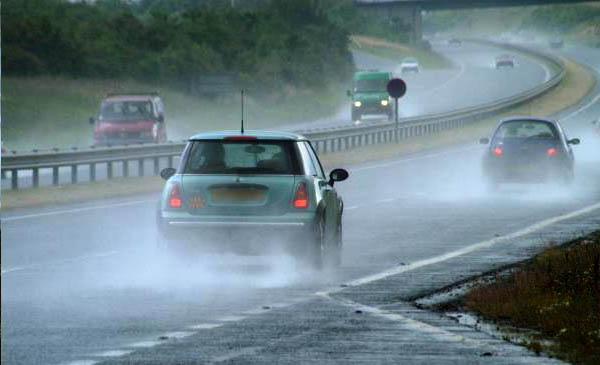car: (155, 131, 349, 269), (484, 115, 578, 188), (90, 93, 167, 144), (348, 71, 392, 123), (399, 53, 419, 71), (494, 52, 515, 69)
